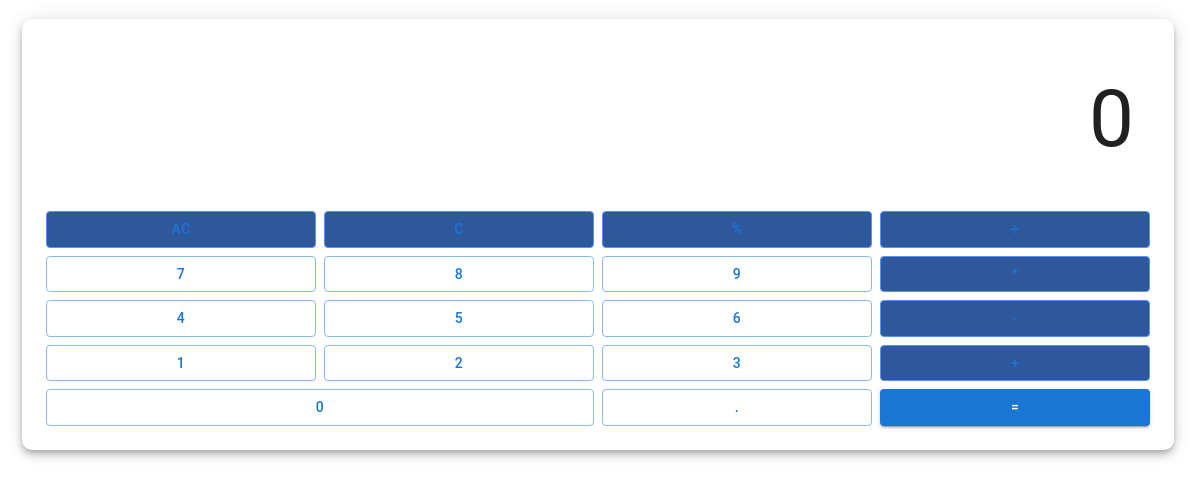
Scenario: calculator tests › Addition test
Step 1. Click the button "3" → (737, 363), box [602,344,872,381]
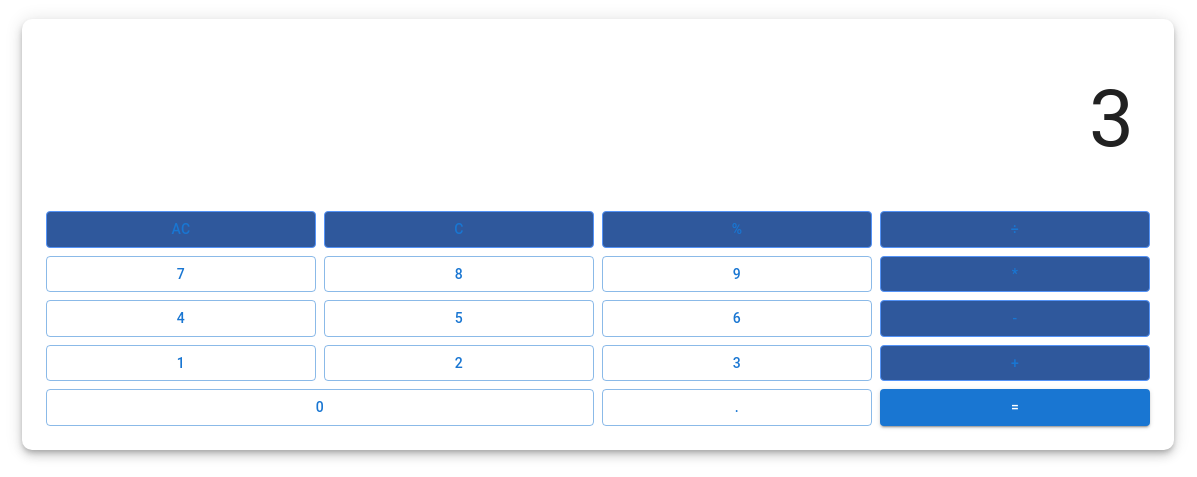
Step 2. Click the button "3" → (737, 363), box [602,344,872,381]
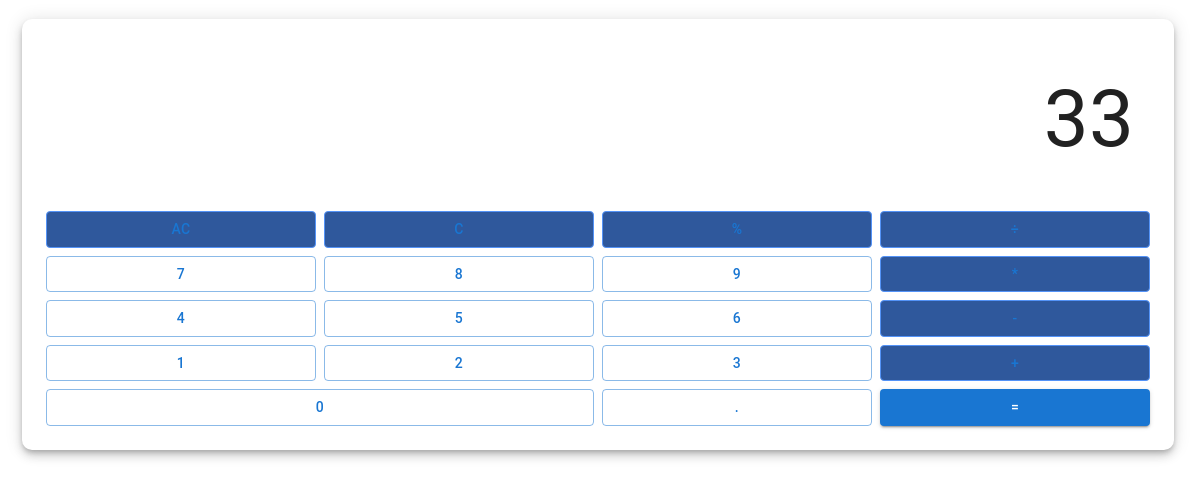
Step 3. Click the button "+" → (1015, 363), box [880,344,1150,381]
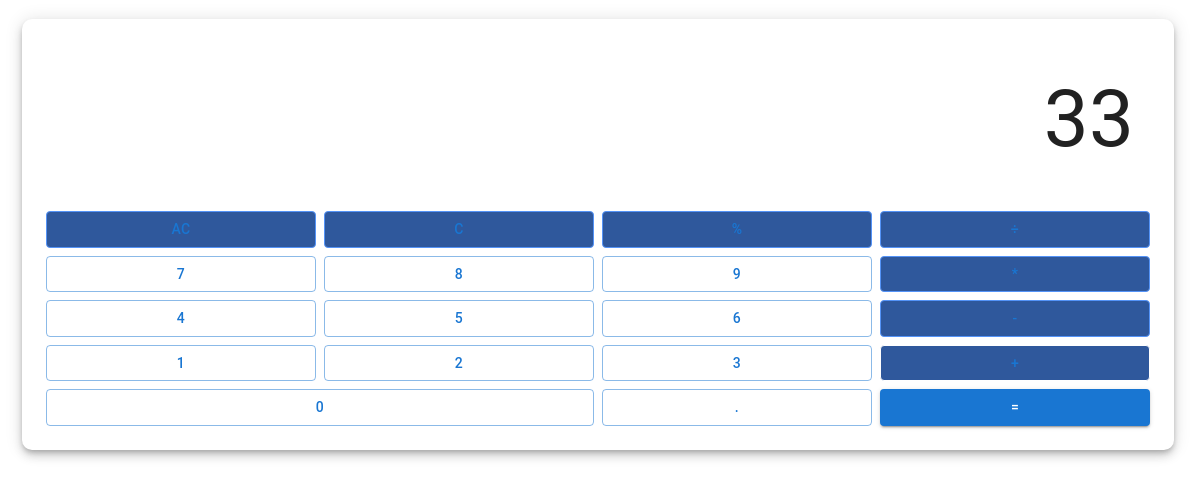
Step 4. Click the button "2" → (459, 363), box [324,344,594,381]
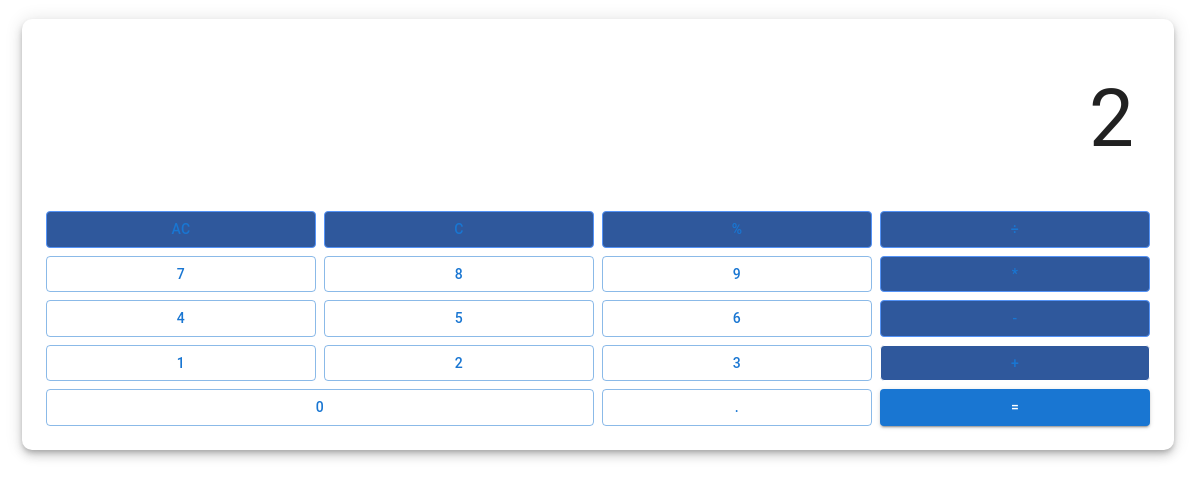
Step 5. Click the button "0" → (320, 407), box [46,389,594,426]
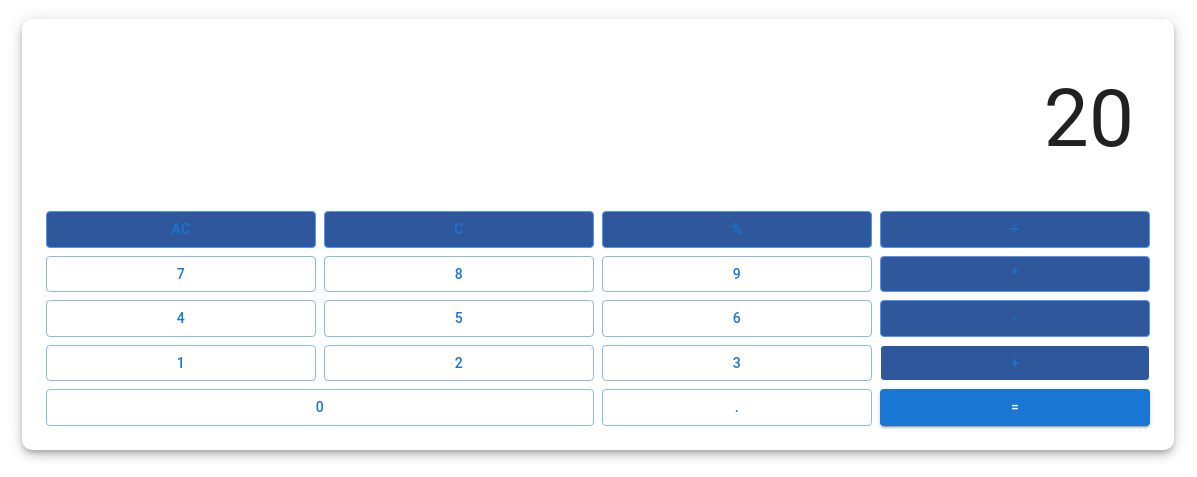
Step 6. Click the button "=" → (1015, 407), box [880,389,1150,426]
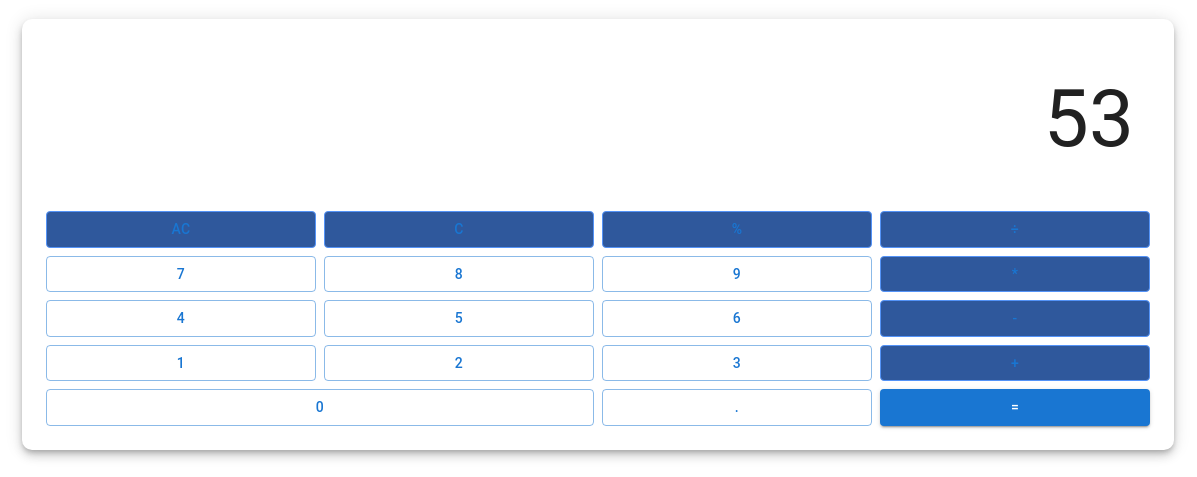
Expected: the text with test id "output" reads "53", [1044,72,1134,166]
